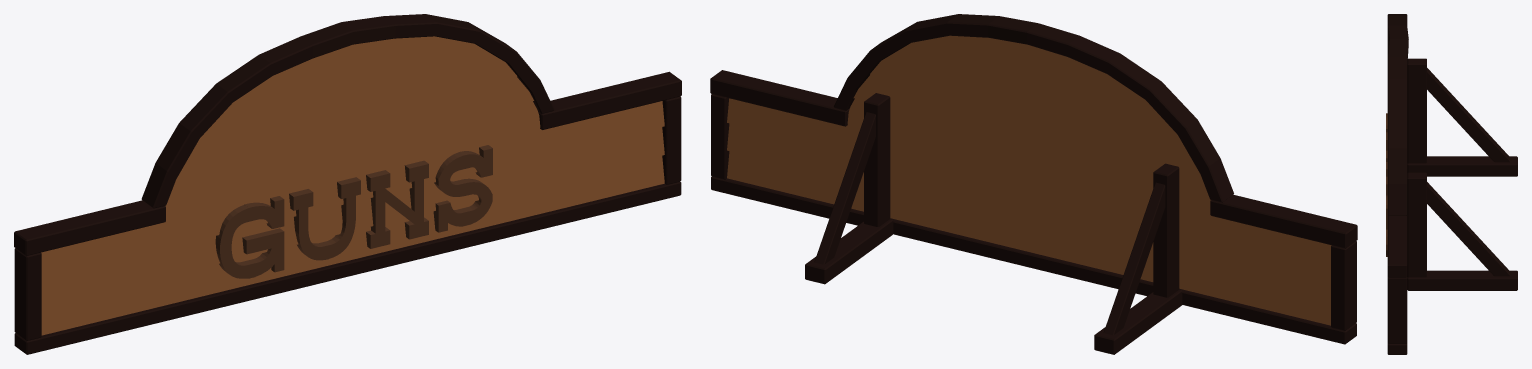
Rendered from ww_gun_sign_b.glb.
3 views of the same model, side by side, from view 1: azimuth 30°, elevation 25°; view 2: azimuth 150°, elevation 25°; view 3: azimuth 270°, elevation 25° (orthographic). The views are drawn at different scales.
Parts seen in each view (by area): view 1: Guns_Sign_B; view 2: Guns_Sign_B; view 3: Guns_Sign_B.
Part boxes in pixels (x1,y1,x2,y2): Guns_Sign_B: [14, 14, 681, 354]; Guns_Sign_B: [710, 14, 1357, 354]; Guns_Sign_B: [1386, 14, 1517, 354].
Size of the model in its own units: 10.56 by 3.75 by 2.34.
